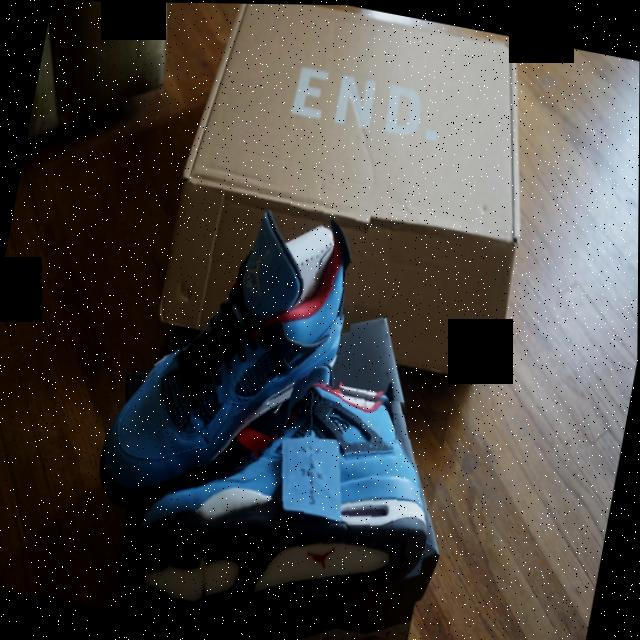shoe: (74, 138, 377, 579), (112, 343, 452, 640)
